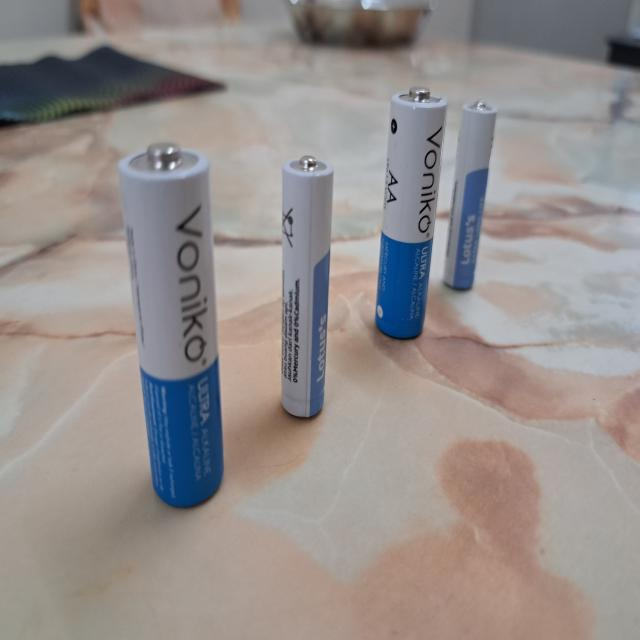battery: (117, 142, 224, 508), (374, 87, 448, 338), (280, 153, 332, 420), (444, 100, 499, 292)
